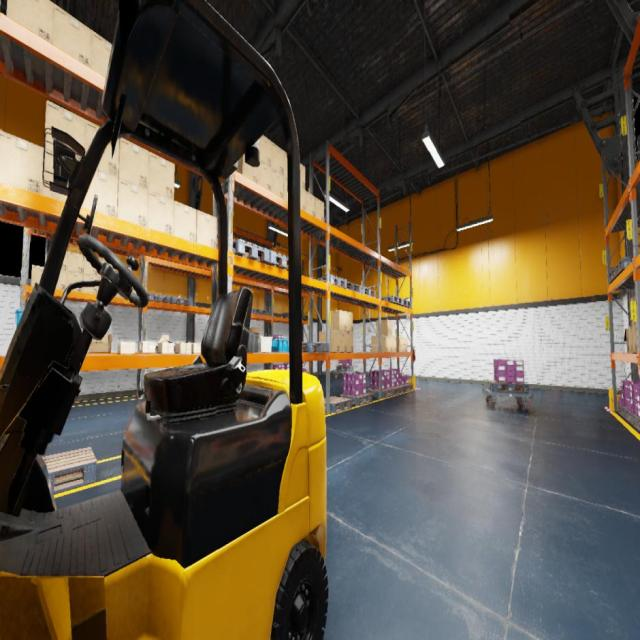box: (0, 130, 44, 195), (52, 3, 92, 68), (45, 100, 86, 162), (42, 148, 82, 207), (6, 0, 54, 44), (85, 120, 120, 178), (82, 170, 118, 217), (119, 138, 149, 189), (117, 178, 148, 226), (148, 152, 174, 200), (147, 190, 174, 235), (90, 31, 112, 78), (173, 200, 196, 242), (196, 210, 217, 248), (235, 153, 258, 183), (258, 136, 272, 168), (319, 330, 339, 352), (257, 160, 271, 191), (89, 334, 112, 352), (272, 142, 284, 176), (329, 309, 346, 332), (67, 251, 84, 273), (272, 168, 283, 198), (82, 274, 98, 294), (67, 271, 83, 291), (83, 256, 98, 276), (158, 335, 174, 353), (377, 319, 392, 336), (98, 258, 112, 276), (32, 265, 44, 286), (55, 270, 67, 290), (372, 336, 387, 351), (118, 341, 135, 354), (315, 197, 324, 221), (306, 190, 314, 217), (139, 341, 155, 353), (630, 296, 636, 326), (175, 342, 191, 353), (396, 337, 408, 351), (346, 311, 354, 332), (300, 163, 306, 190), (346, 332, 354, 352), (339, 332, 347, 352), (632, 324, 637, 352), (300, 188, 306, 210), (61, 252, 68, 270), (624, 329, 629, 353), (628, 326, 632, 353), (191, 344, 201, 354), (249, 328, 260, 337), (284, 151, 287, 178), (284, 177, 287, 200), (392, 336, 396, 352), (388, 336, 392, 352), (636, 324, 638, 351), (98, 277, 101, 292), (115, 293, 123, 297), (132, 287, 136, 294)
forklift: (0, 0, 328, 639)
pallets: (42, 446, 97, 494), (232, 239, 270, 263), (259, 251, 288, 270), (488, 381, 528, 394), (324, 396, 351, 414), (315, 275, 347, 288), (340, 393, 372, 406), (288, 342, 329, 352), (615, 256, 633, 276), (367, 388, 395, 398), (340, 281, 361, 293), (355, 286, 375, 298), (147, 293, 171, 303), (378, 296, 402, 305), (171, 296, 191, 305), (625, 409, 635, 426), (396, 299, 411, 308), (390, 386, 404, 395), (156, 345, 174, 352), (609, 268, 617, 283), (618, 403, 626, 418), (399, 384, 413, 392), (634, 415, 640, 431), (336, 366, 353, 371), (254, 309, 268, 315), (280, 312, 289, 318), (302, 315, 308, 320), (251, 309, 253, 314), (174, 346, 175, 351)
